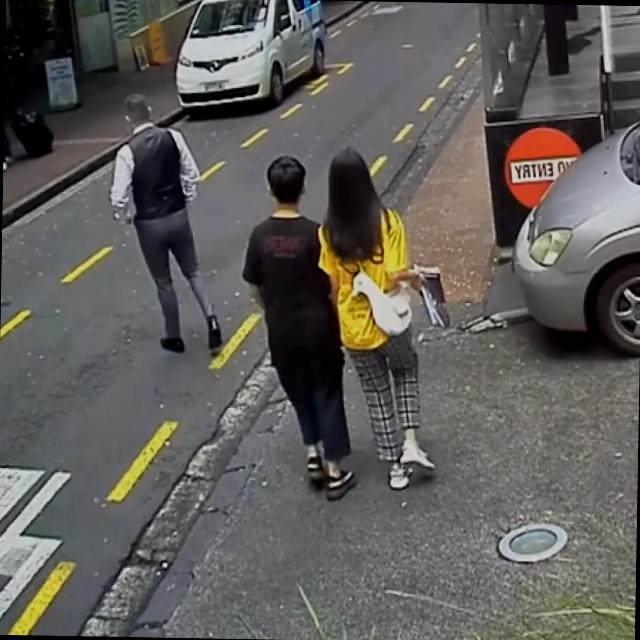person: (314, 147, 441, 489), (240, 155, 360, 500), (106, 93, 225, 354)
